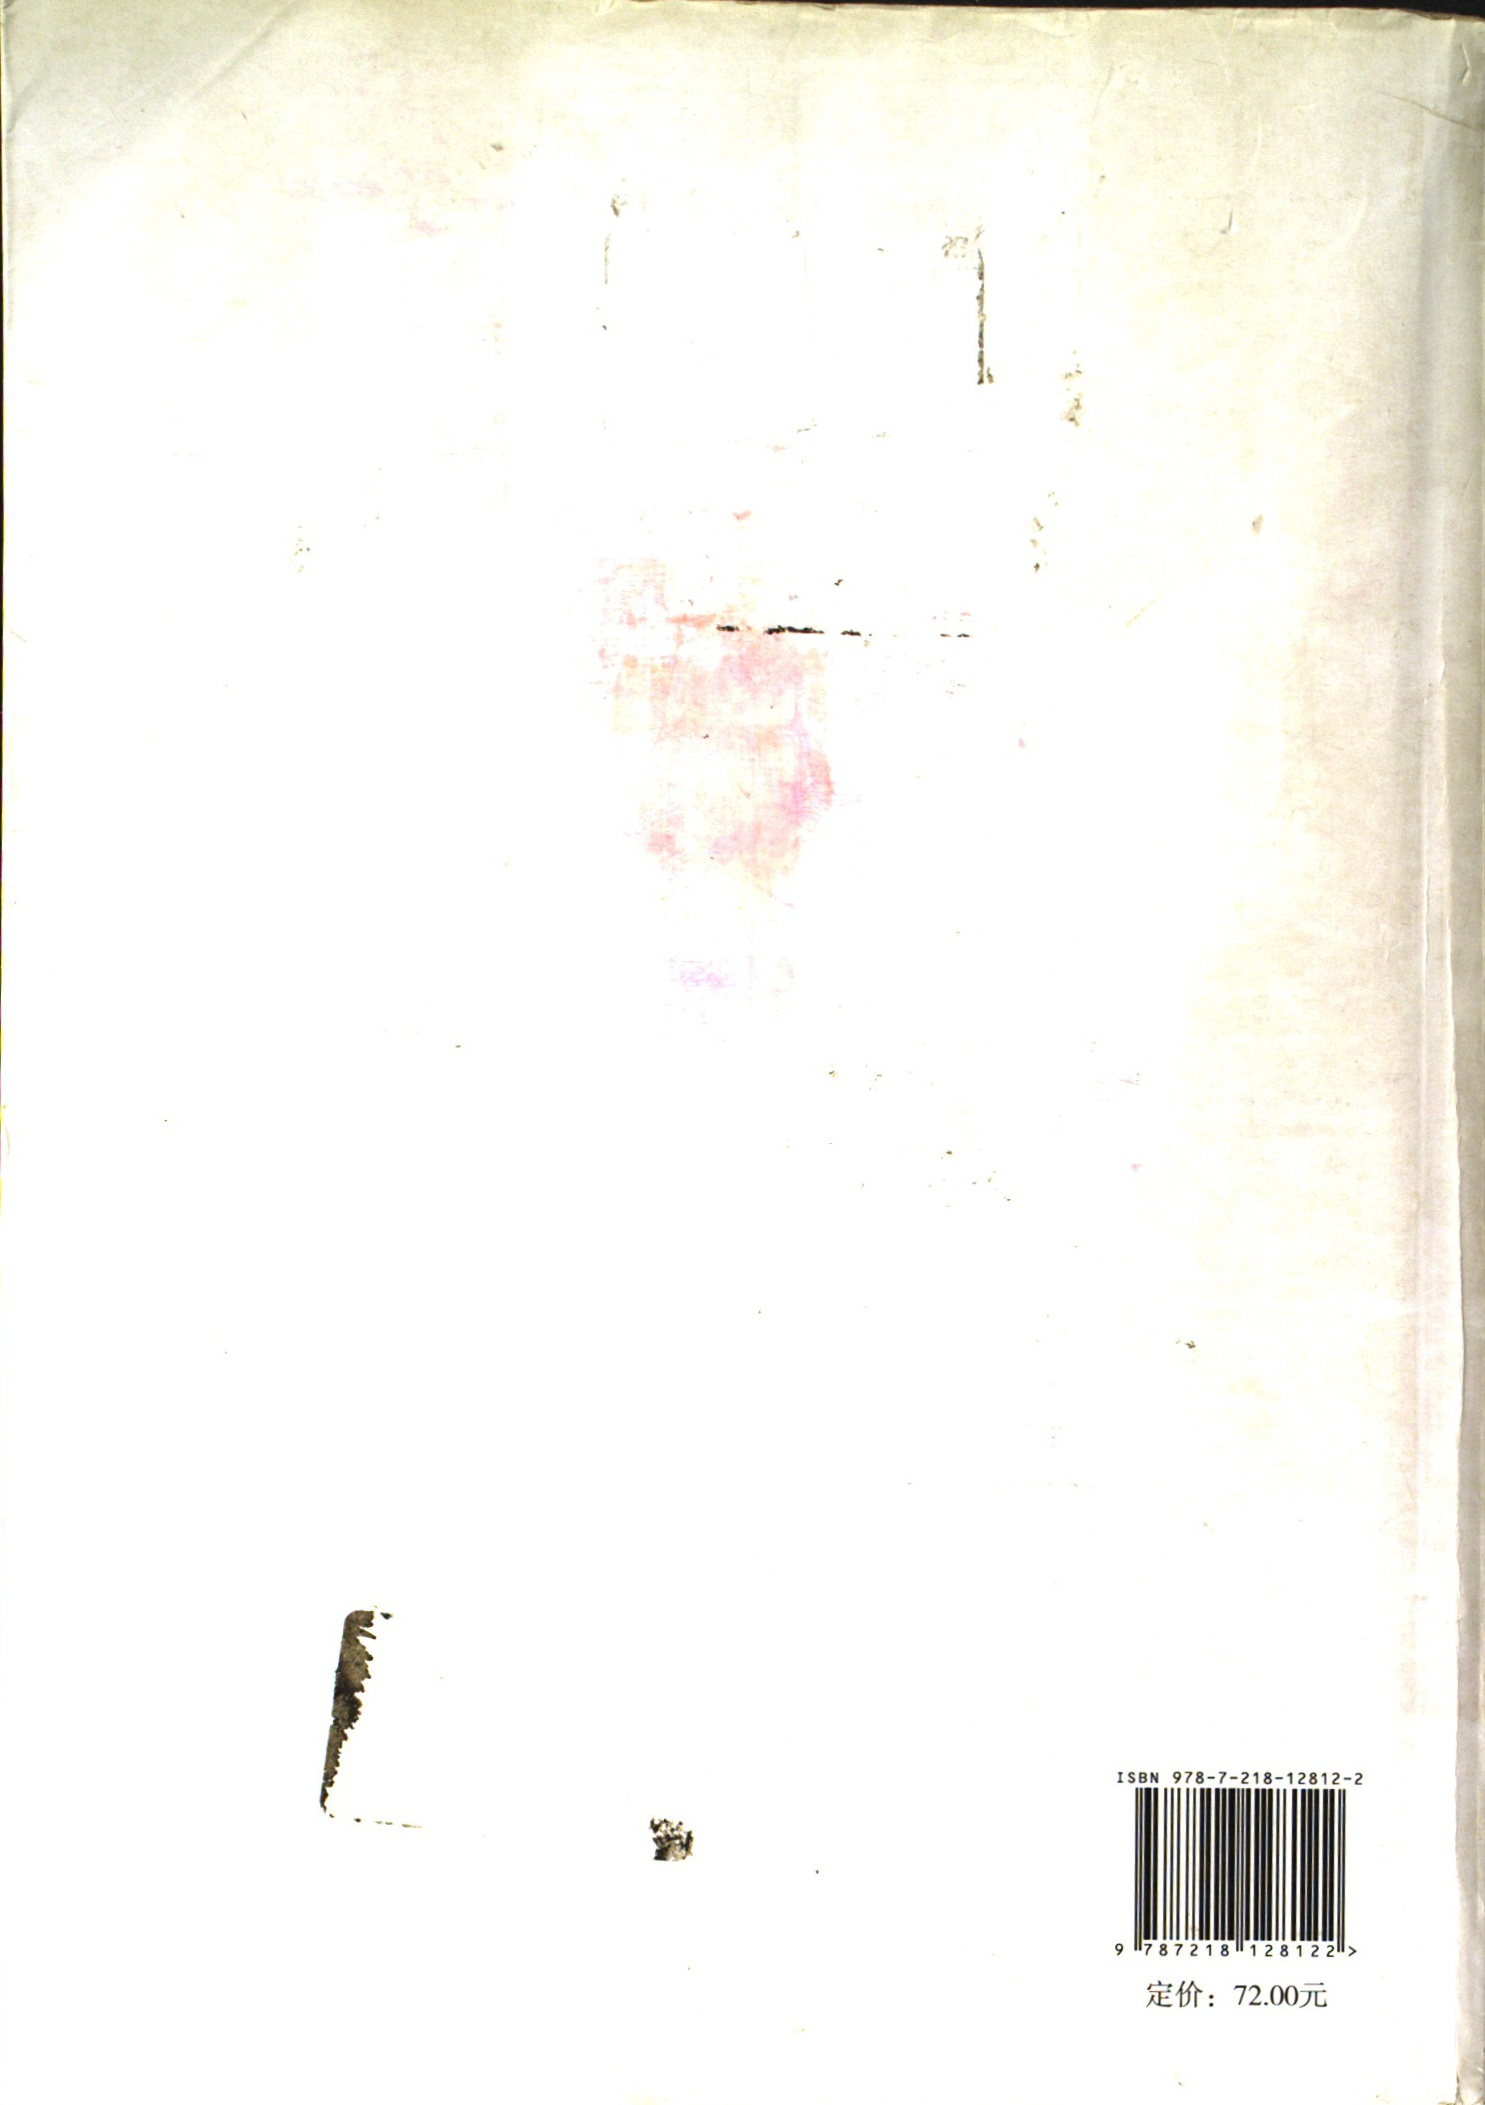barcode: (1090, 1772, 1376, 1967)
